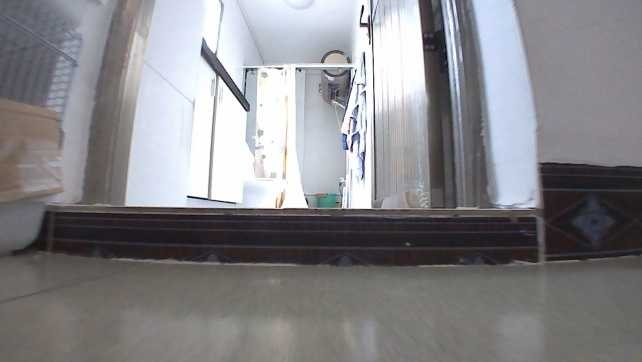door_sill: (41, 200, 540, 266)
toilet: (240, 144, 282, 205)
